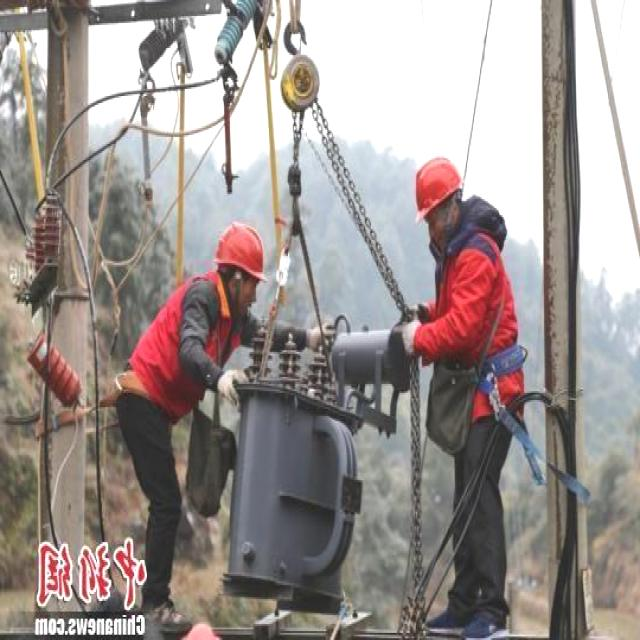helmet: (408, 152, 464, 220), (210, 221, 266, 279)
no-vest: (434, 236, 518, 412), (140, 284, 230, 398)
